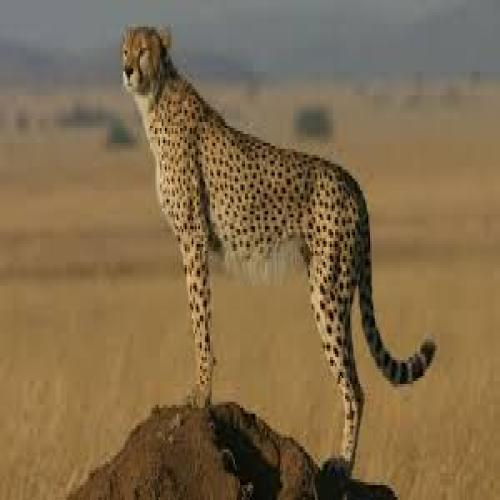cheetah-endangered: (122, 23, 434, 470)
